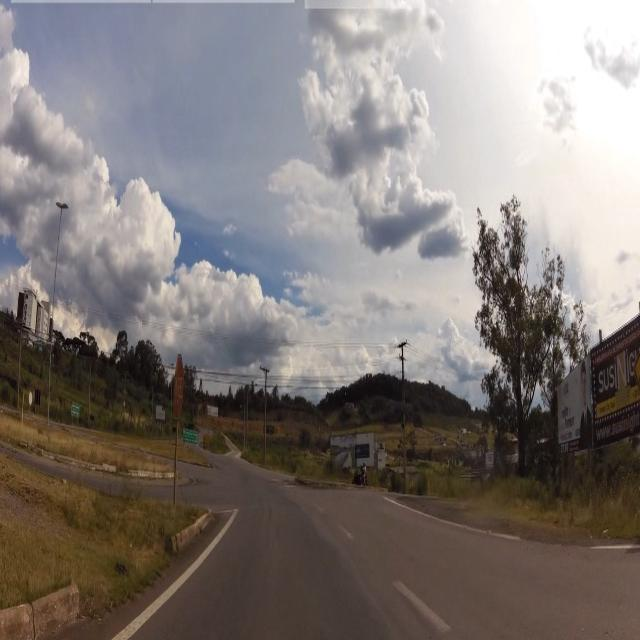R-1: (169, 354, 190, 423)
